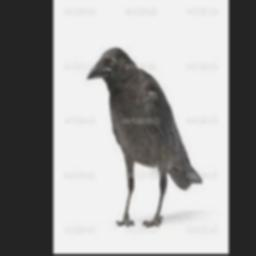Crow: (87, 47, 203, 228)
